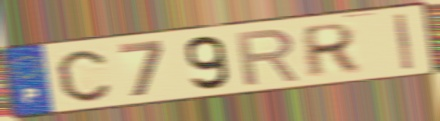7: (115, 37, 169, 100)
9: (184, 34, 231, 92)
C: (54, 48, 113, 103)
I: (392, 11, 416, 72)
R: (233, 27, 302, 89), (301, 20, 361, 80)
